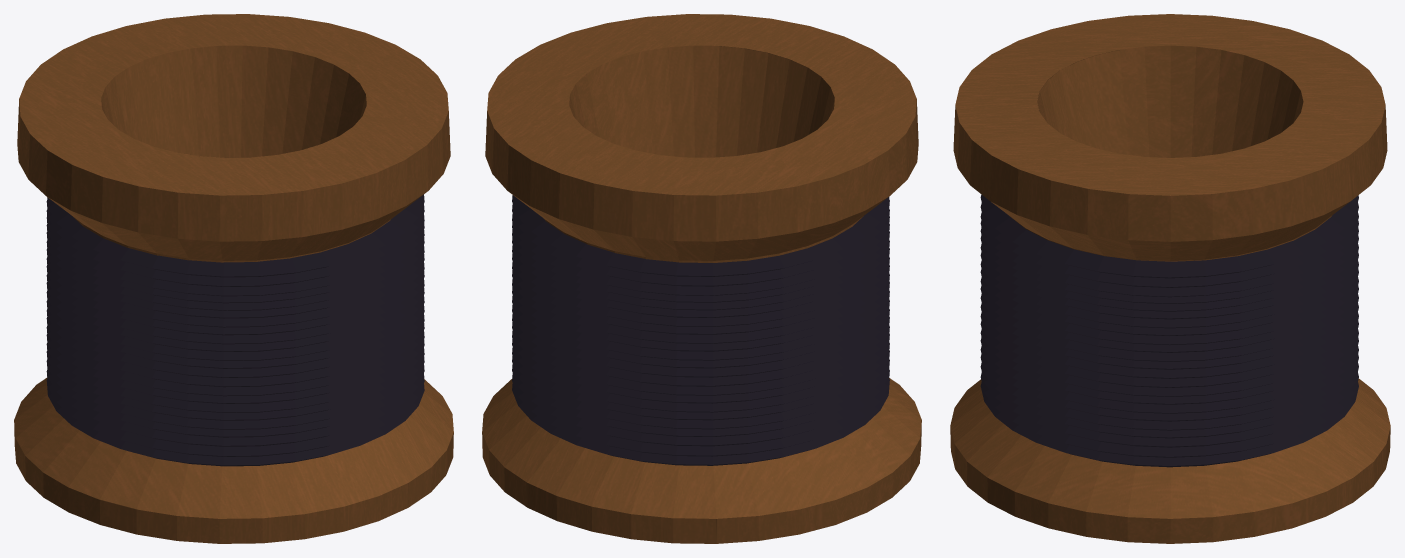
File: Funny Torus.fbx
3 views of the same model, side by side, from view 1: azimuth 30°, elevation 25°; view 2: azimuth 150°, elevation 25°; view 3: azimuth 270°, elevation 25° (orthographic).
Visible parts, largest first — view 1: Sphere.001, Torus.016, Torus.022, Torus.021, Torus.020, Torus.023, Torus.008, Torus.011, Torus.019, Torus.014, Torus.012, Torus.006 (+12 smaller); view 2: Sphere.001, Torus.016, Torus.022, Torus.021, Torus.020, Torus.023, Torus.011, Torus.008, Torus.004, Torus.019, Torus.010, Torus.002 (+12 smaller); view 3: Sphere.001, Torus.016, Torus.022, Torus.021, Torus.020, Torus.023, Torus.008, Torus.011, Torus.019, Torus.012, Torus.006, Torus.014 (+12 smaller).
Part boxes in pixels (<box>): Sphere.001: <box>14,14,453,543</box>; Torus.016: <box>47,194,424,277</box>; Torus.022: <box>46,370,424,456</box>; Torus.021: <box>46,200,424,286</box>; Torus.020: <box>46,210,424,296</box>; Torus.023: <box>46,379,424,466</box>; Torus.008: <box>46,360,424,446</box>; Torus.011: <box>46,300,424,387</box>; Torus.019: <box>46,291,424,377</box>; Torus.014: <box>46,343,424,429</box>; Torus.012: <box>46,326,424,412</box>; Torus.006: <box>46,241,424,327</box>; Sphere.001: <box>482,14,921,543</box>; Torus.016: <box>512,195,889,276</box>; Torus.022: <box>512,370,889,456</box>; Torus.021: <box>512,200,889,286</box>; Torus.020: <box>512,209,889,295</box>; Torus.023: <box>512,379,889,465</box>; Torus.011: <box>512,300,889,386</box>; Torus.008: <box>512,359,889,446</box>; Torus.004: <box>512,257,889,343</box>; Torus.019: <box>512,291,889,377</box>; Torus.010: <box>512,309,889,395</box>; Torus.002: <box>512,274,889,360</box>; Sphere.001: <box>950,14,1390,543</box>; Torus.016: <box>980,194,1358,278</box>; Torus.022: <box>980,372,1358,457</box>; Torus.021: <box>980,203,1358,287</box>; Torus.020: <box>980,212,1358,297</box>; Torus.023: <box>980,382,1358,467</box>; Torus.008: <box>980,363,1358,447</box>; Torus.011: <box>980,303,1358,387</box>; Torus.019: <box>980,294,1358,378</box>; Torus.012: <box>980,329,1358,413</box>; Torus.006: <box>980,244,1358,328</box>; Torus.014: <box>980,346,1358,430</box>.
Size of the model in its own units: 184 by 170 by 184.
Materials: 3 (2 with a texture image).
